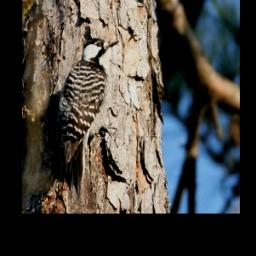Woodpecker: (58, 37, 120, 199)
